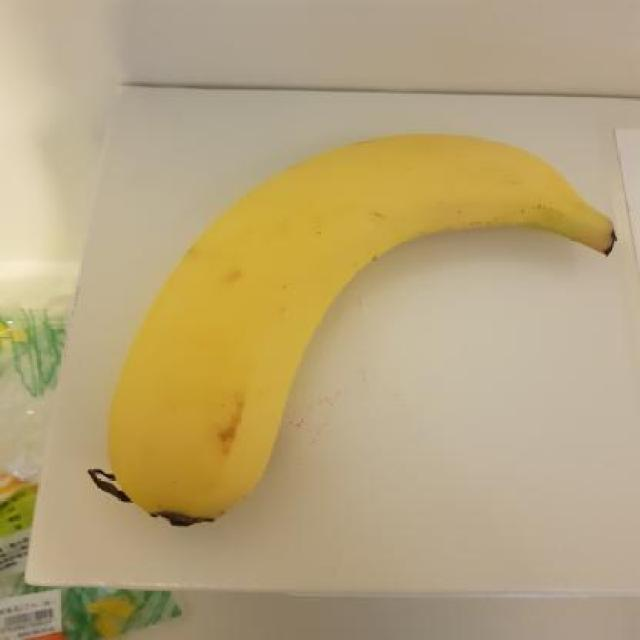Banana: (90, 126, 622, 532)
